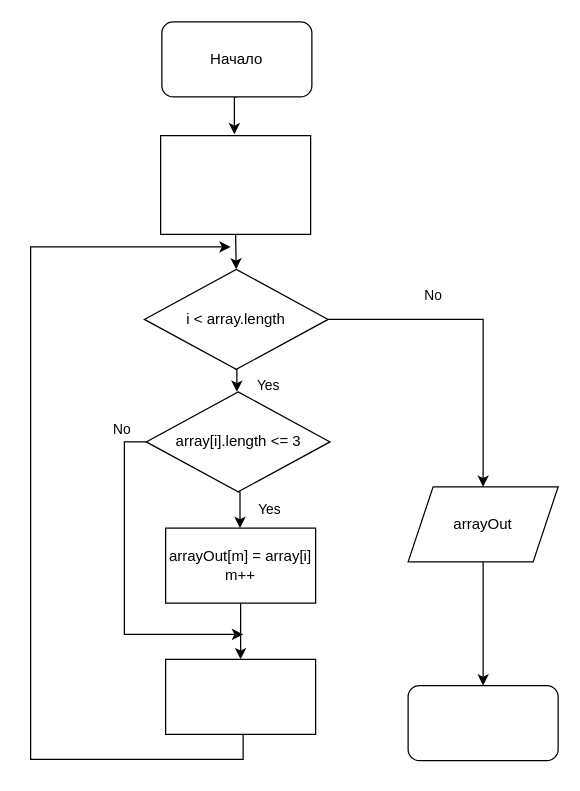
Image size: 580x791. Some labels were removed from this diagram. The centre of each missing label's shape, as x and y in pixels:
i++: (x=240, y=696)
string array[] string arrayOut[] = array[] int m = 0 int i = 0: (x=235, y=184)
Конец: (x=482, y=722)
